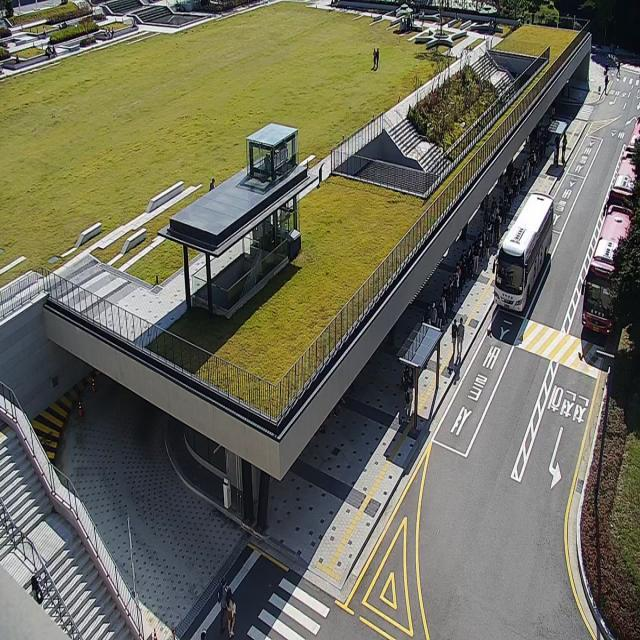queue: (412, 114, 554, 431)
